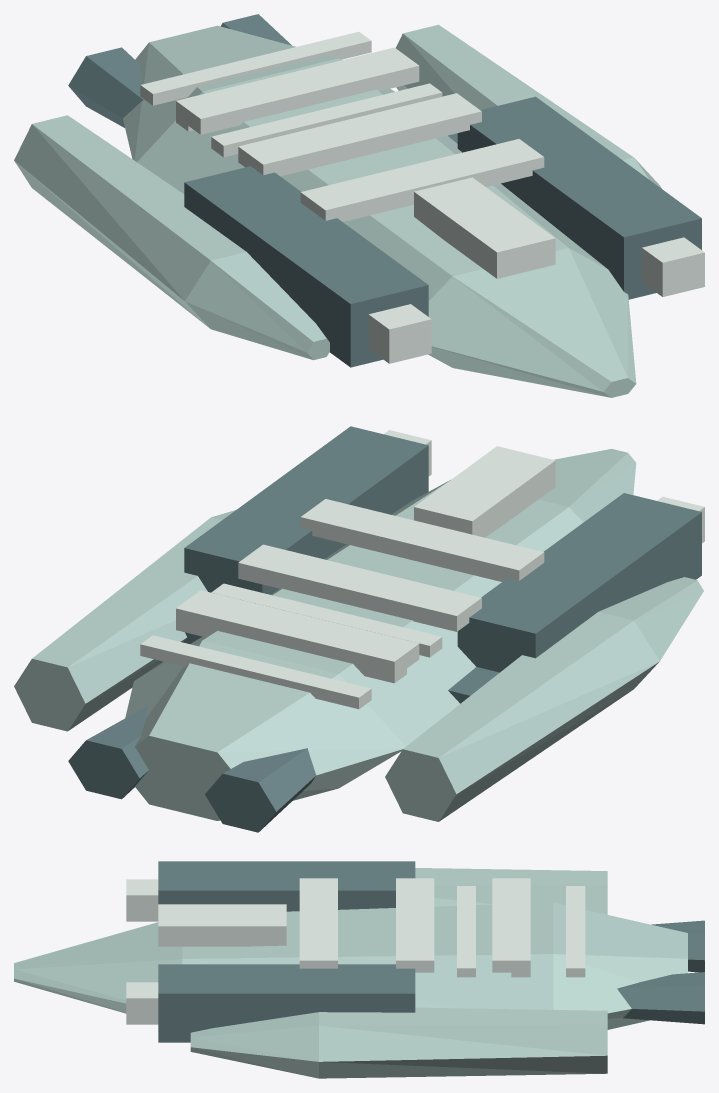
The picture shows the model from 3 angles, top to bottom: view 1: azimuth 30°, elevation 25°; view 2: azimuth 150°, elevation 25°; view 3: azimuth 270°, elevation 25°; orthographic projection. The views are drawn at different scales.
Bounding box in the file's own units: 3.01 × 0.7944 × 4.91.
